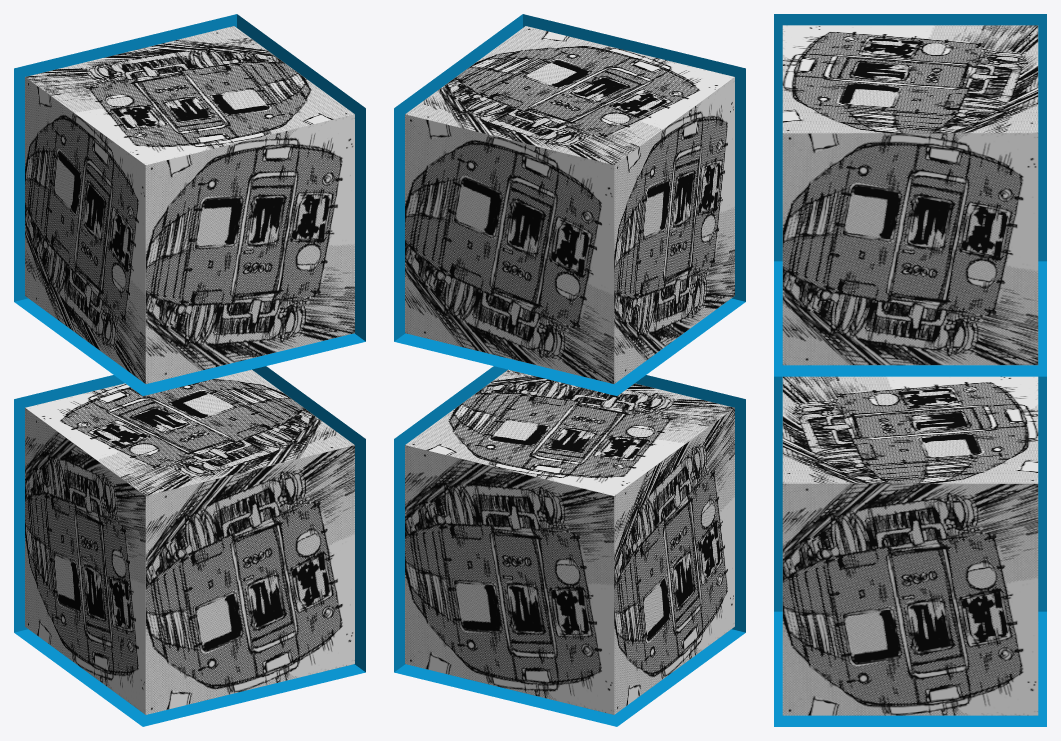
The model's file is ICON_2000.glb.
The picture shows the model from 3 angles, left to right: view 1: azimuth 30°, elevation 25°; view 2: azimuth 150°, elevation 25°; view 3: azimuth 270°, elevation 25°; orthographic projection. The views are drawn at different scales.
Parts seen in each view (by area): view 1: ICON_2000, obj1, obj3, obj12; view 2: ICON_2000, obj1, obj3, obj12; view 3: ICON_2000, obj1, obj3, obj12.
Part boxes in pixels (left/top/right/bottom): ICON_2000: left=25, top=26, right=354, bottom=383; obj1: left=25, top=369, right=354, bottom=714; obj3: left=14, top=14, right=365, bottom=395; obj12: left=14, top=366, right=365, bottom=726; ICON_2000: left=405, top=26, right=734, bottom=383; obj1: left=405, top=369, right=734, bottom=714; obj3: left=394, top=14, right=745, bottom=395; obj12: left=394, top=366, right=745, bottom=726; ICON_2000: left=782, top=25, right=1038, bottom=365; obj1: left=782, top=376, right=1038, bottom=715; obj3: left=774, top=14, right=1046, bottom=376; obj12: left=774, top=376, right=1046, bottom=726.
Bounding box in the file's own units: 2.4 × 5.8 × 2.4.
10 materials, 10 textured.
